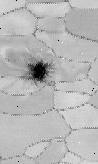good_void: (25, 59, 50, 86)
